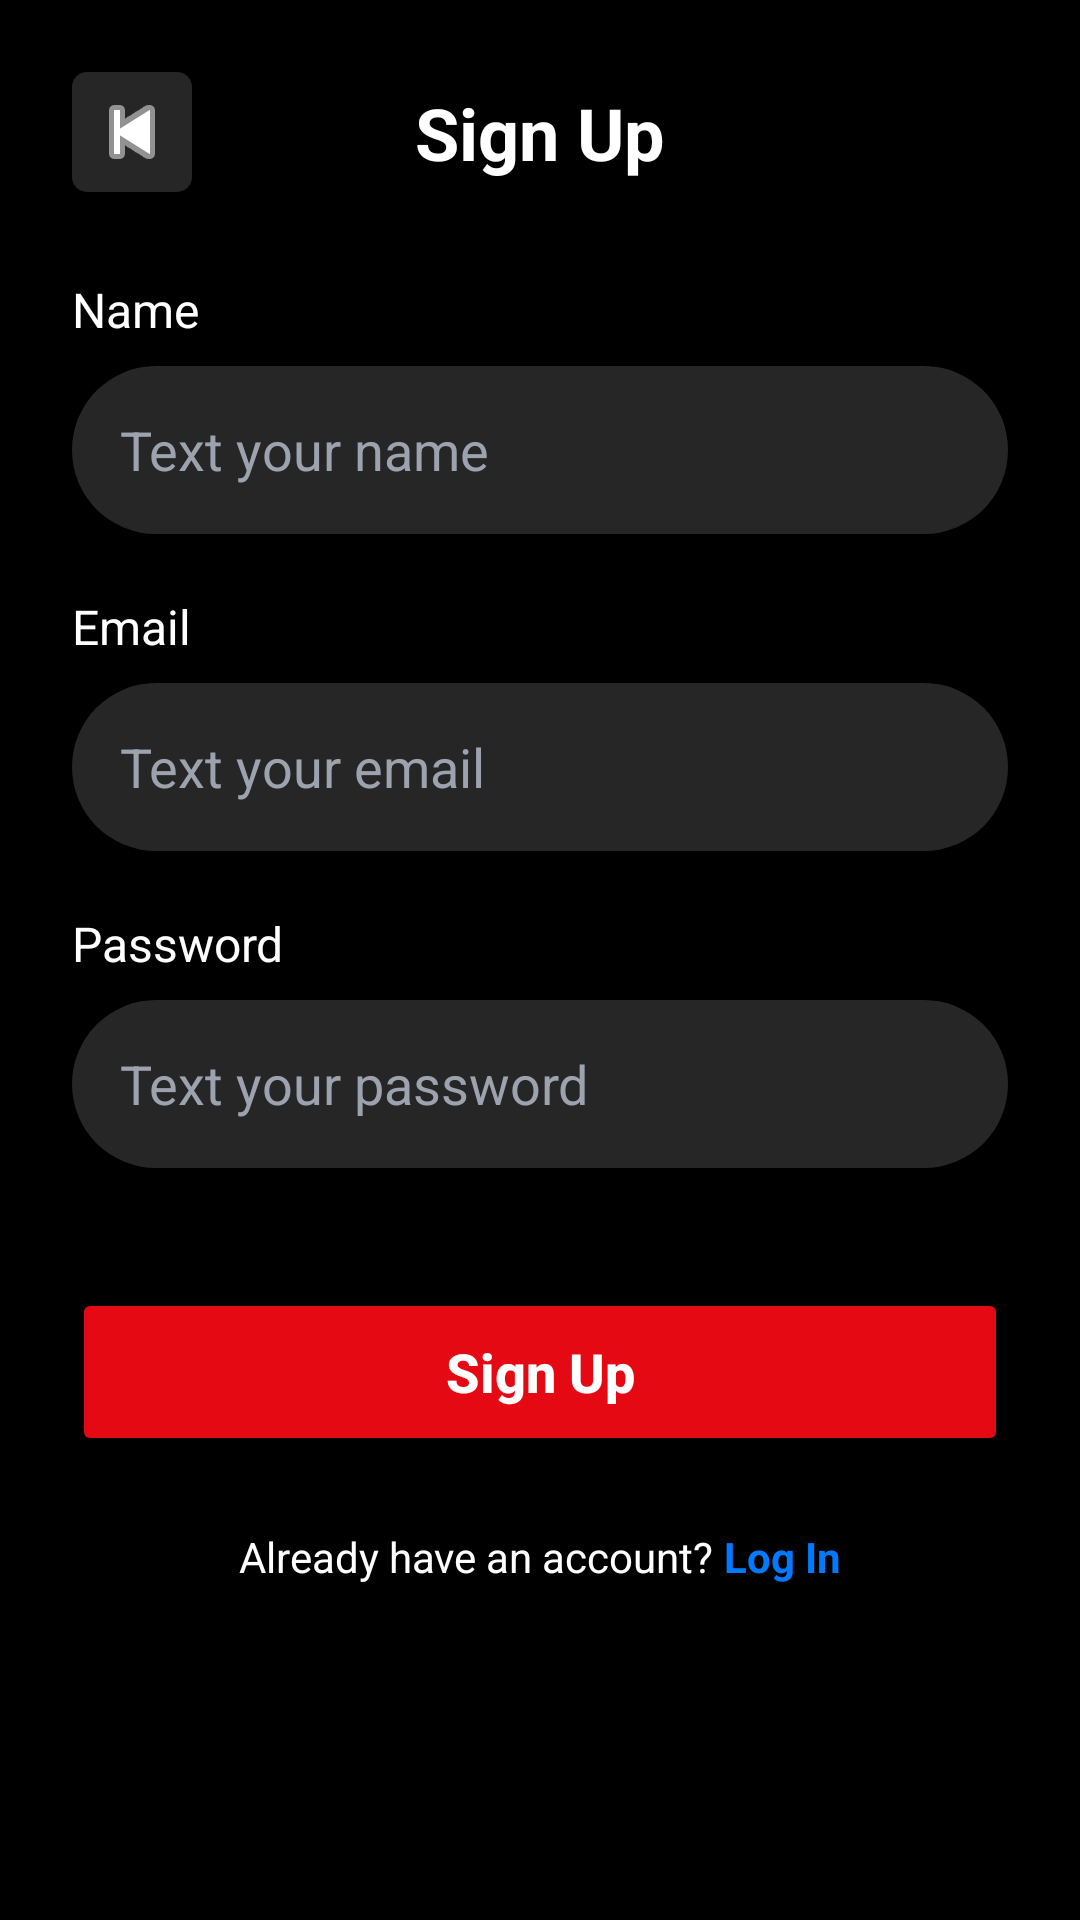

Named icons in this screenshot (1080×1920) and their centers, (x=x, y=y):
previous: (x=132, y=132)
